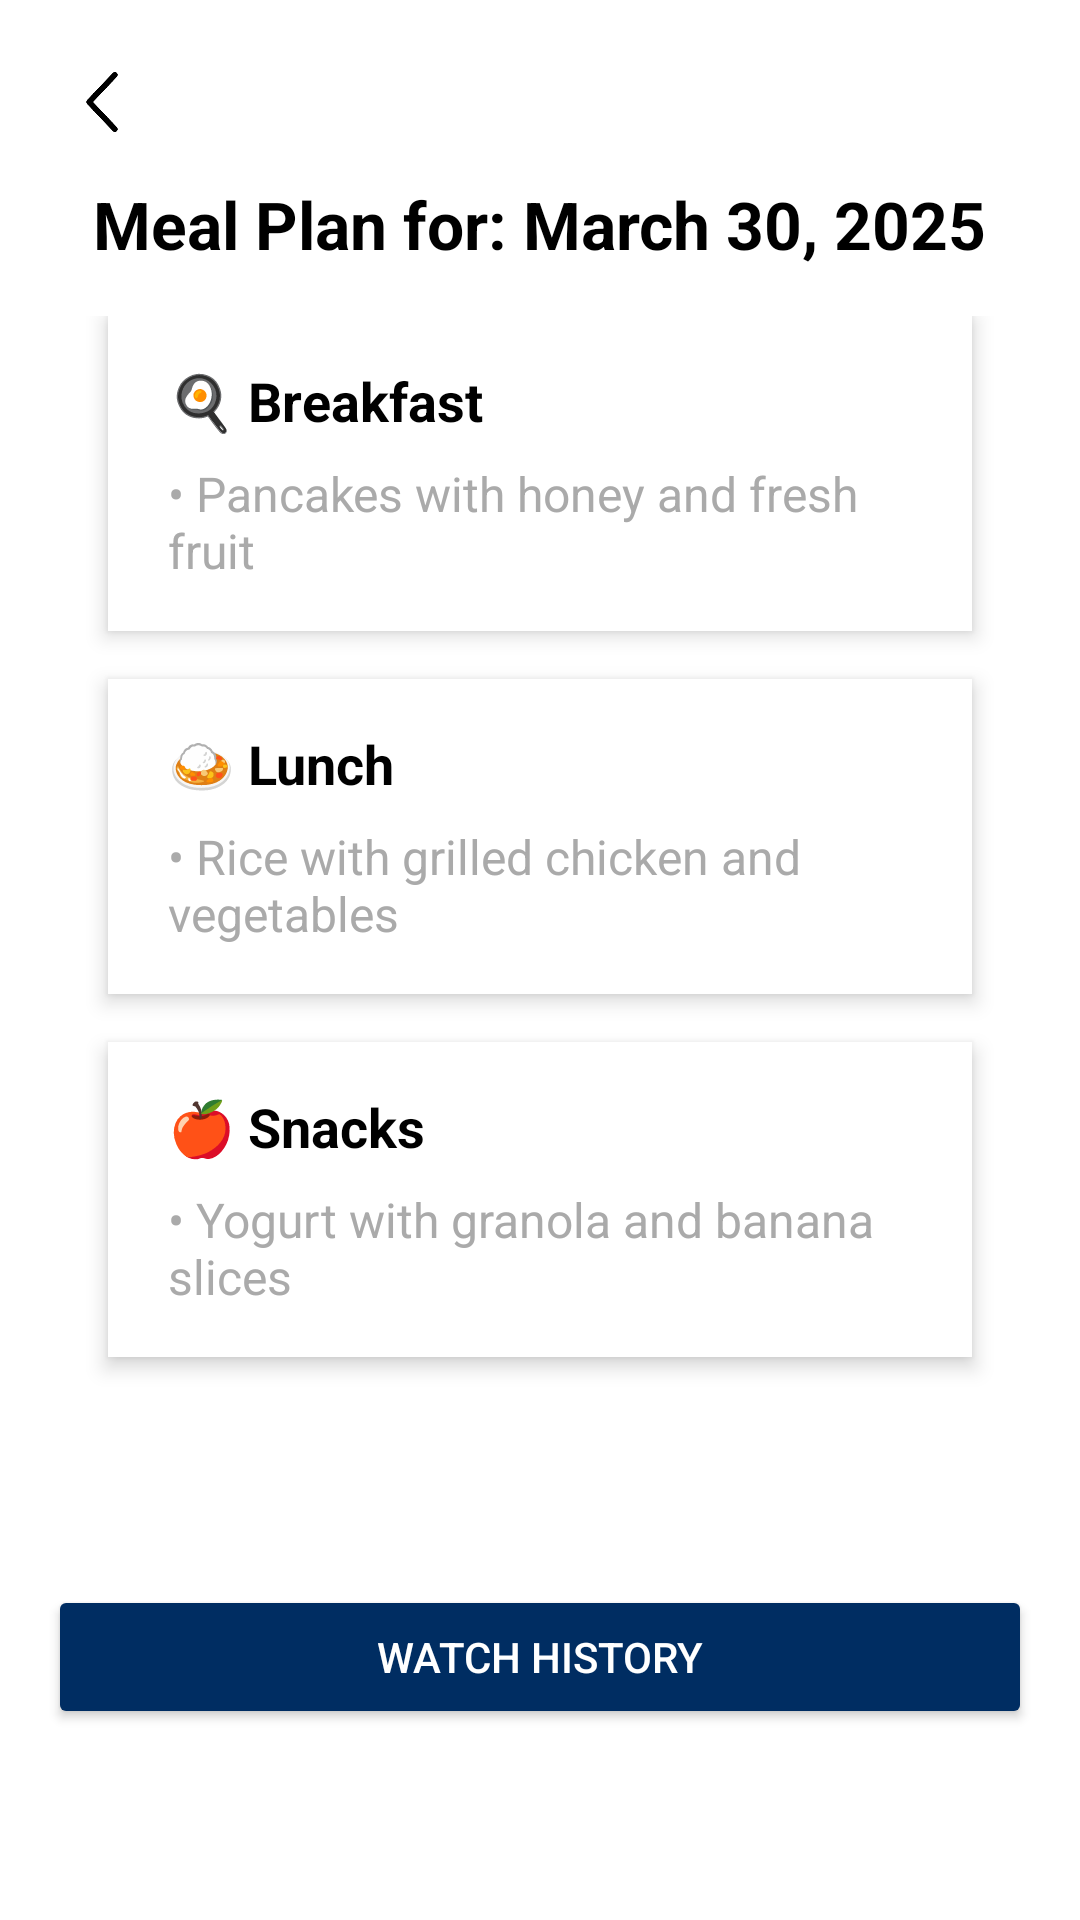

Locate icon controls on the screen. Image size 1080w x 1920h, boxes as [x1, y1, x2, y2].
Back: [86, 72, 118, 132]
